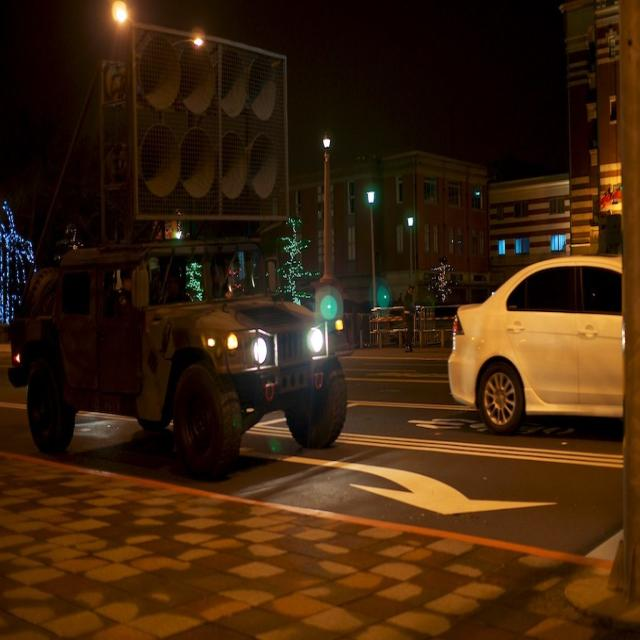car: (444, 255, 633, 441)
